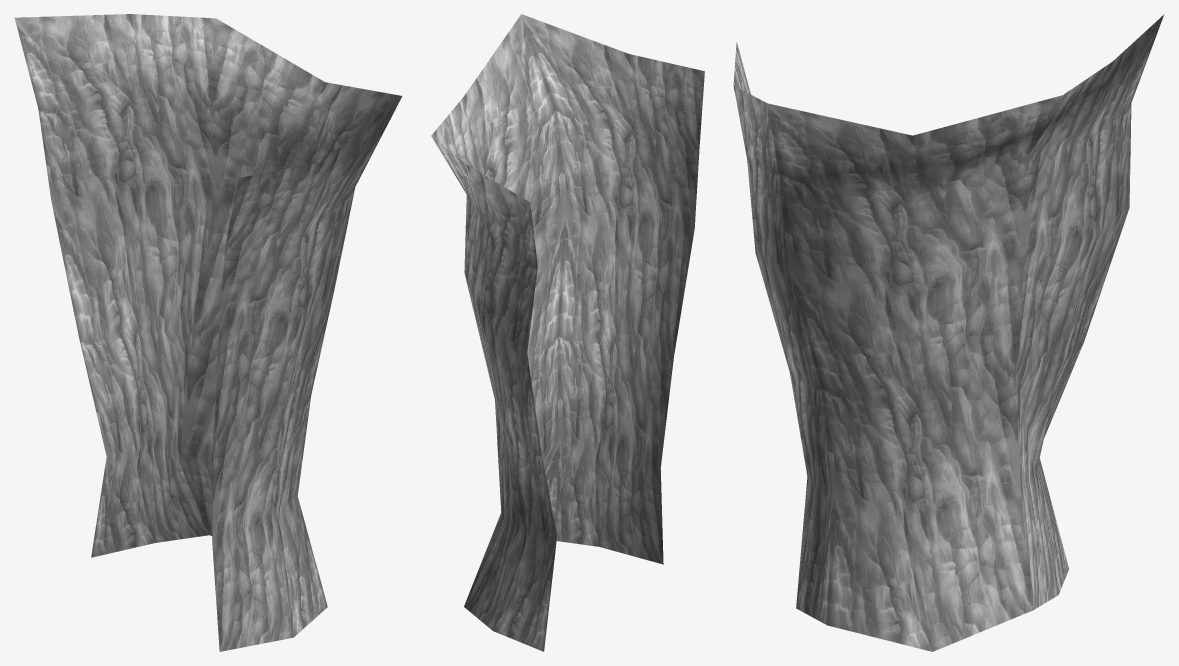
File: SWORDLIGHT20_PS-AREA03_66.fbx
The picture shows the model from 3 angles, left to right: view 1: azimuth 30°, elevation 25°; view 2: azimuth 150°, elevation 25°; view 3: azimuth 270°, elevation 25°; orthographic projection. The views are drawn at different scales.
Visible parts, largest first — view 1: SWORDLIGHT20_PS-AREA03_66; view 2: SWORDLIGHT20_PS-AREA03_66; view 3: SWORDLIGHT20_PS-AREA03_66.
Part boxes in pixels (x1,y1,x2,y2): SWORDLIGHT20_PS-AREA03_66: (14, 14, 402, 651); SWORDLIGHT20_PS-AREA03_66: (431, 14, 704, 651); SWORDLIGHT20_PS-AREA03_66: (733, 14, 1164, 651).
Size of the model in its own units: 82988 by 214249 by 148637.
1 material, 1 textured.
